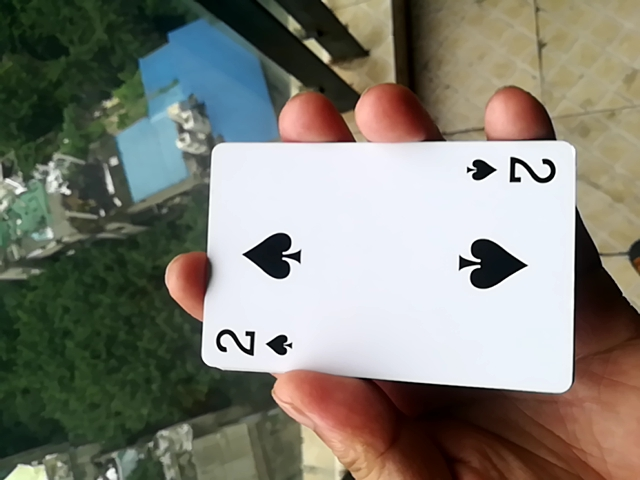ht 2: (193, 132, 571, 398)
